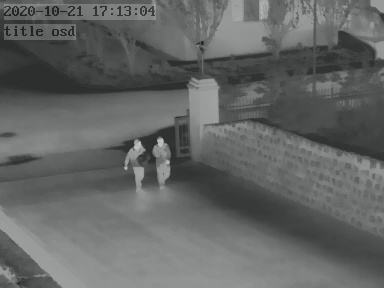person: (125, 139, 147, 194), (151, 134, 171, 191)
